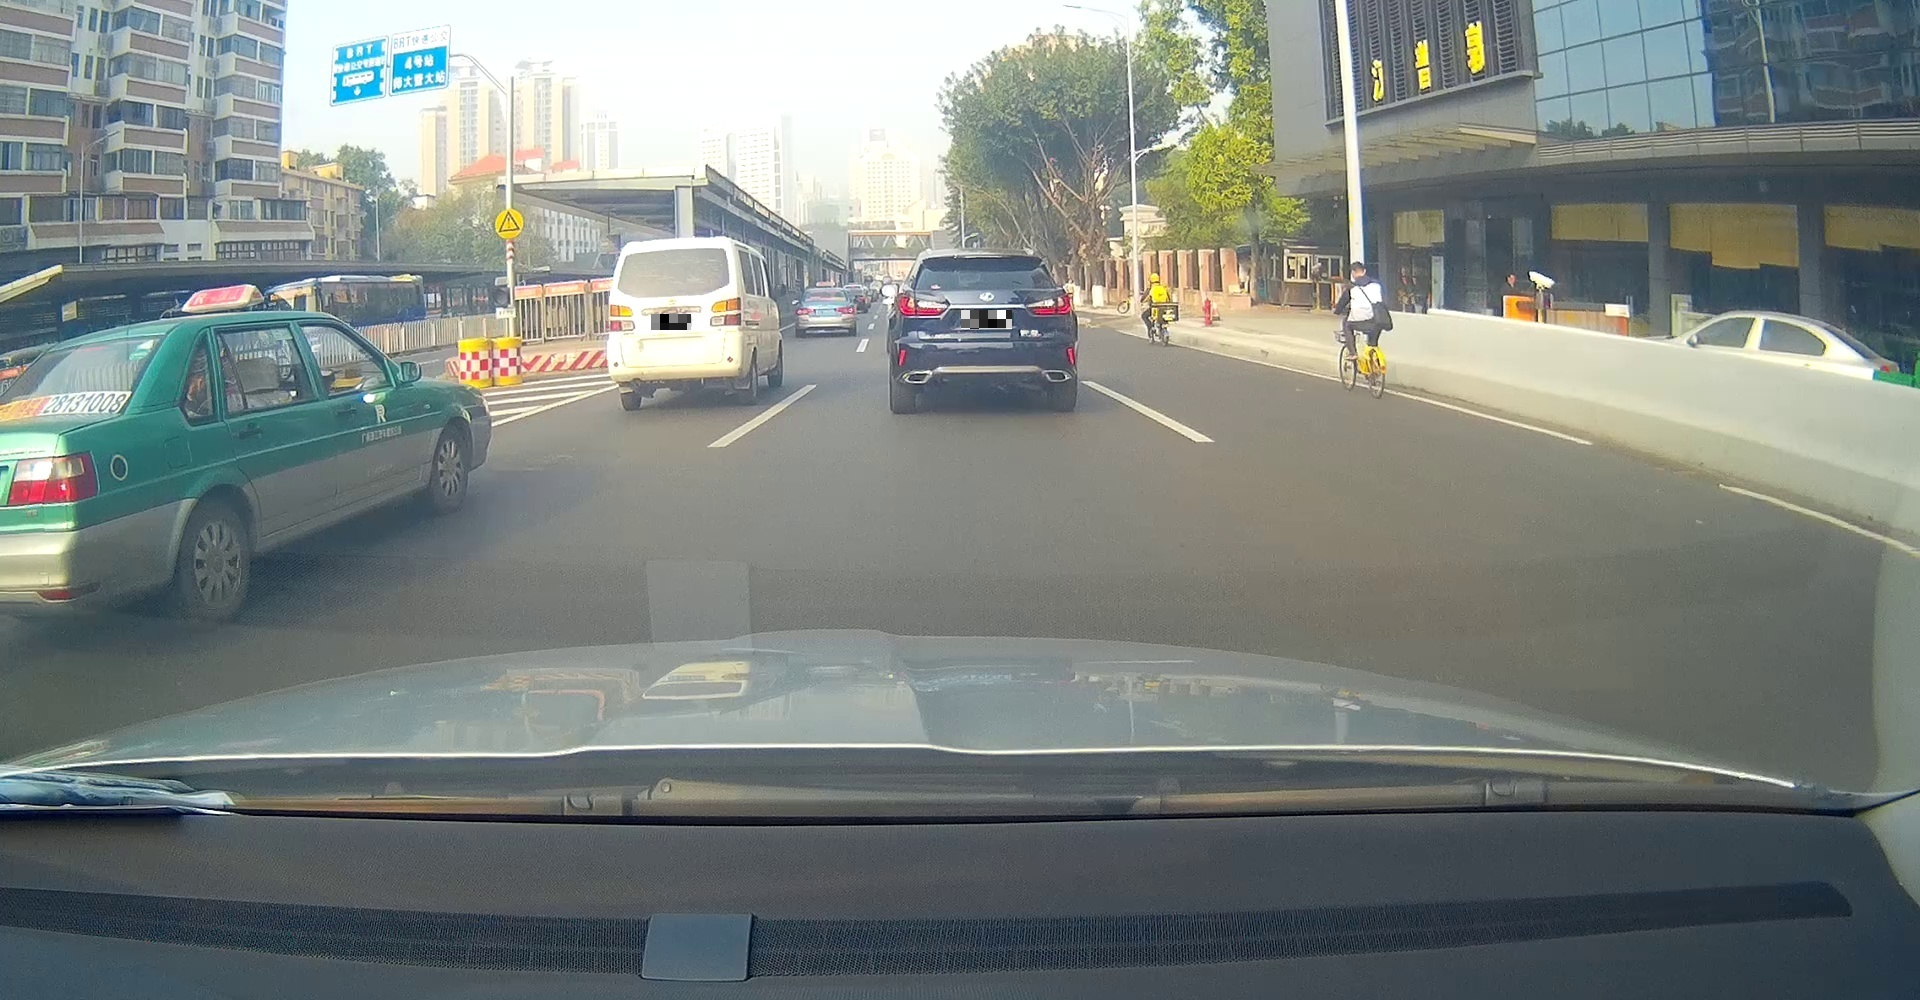L_light: (897, 293, 949, 317), (610, 305, 634, 332), (797, 308, 813, 315)
R_light: (1026, 293, 1073, 316), (709, 298, 742, 326), (838, 307, 855, 313)
T_light: (965, 253, 1003, 258), (665, 249, 687, 256), (822, 298, 830, 299)
day-brake: (796, 287, 856, 338)
day-no: (891, 249, 1078, 412), (606, 237, 745, 409)
plate_1: (651, 313, 691, 330)
plate_2: (961, 310, 1012, 329)
